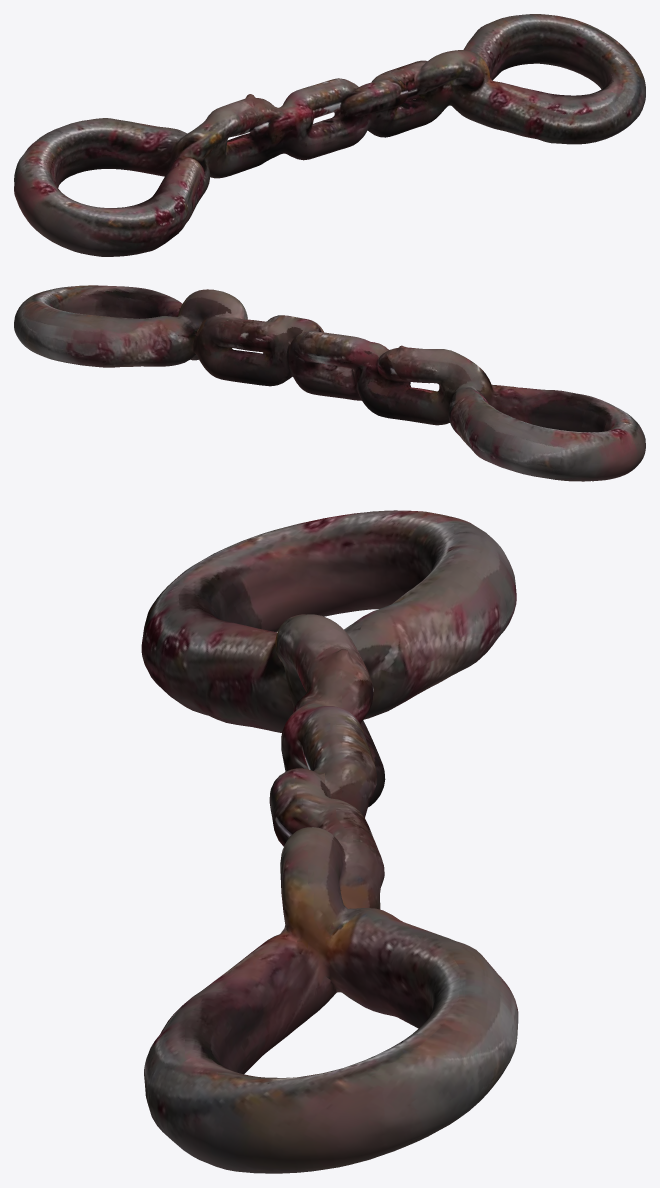
Rendered from shackle-chain.glb.
The picture shows the model from 3 angles, top to bottom: view 1: azimuth 30°, elevation 25°; view 2: azimuth 150°, elevation 25°; view 3: azimuth 270°, elevation 25°; orthographic projection. The views are drawn at different scales.
Parts seen in each view (by area): view 1: cowninja-shackle-chain; view 2: cowninja-shackle-chain; view 3: cowninja-shackle-chain.
Boxes of the visible parts, box(x1,y1,x2,y2) form: cowninja-shackle-chain: box(14, 14, 645, 256); cowninja-shackle-chain: box(14, 285, 645, 481); cowninja-shackle-chain: box(141, 510, 518, 1173).
Bounding box in the file's own units: 1.2 × 0.177 × 0.3233.
Materials: 1 (1 with a texture image).
